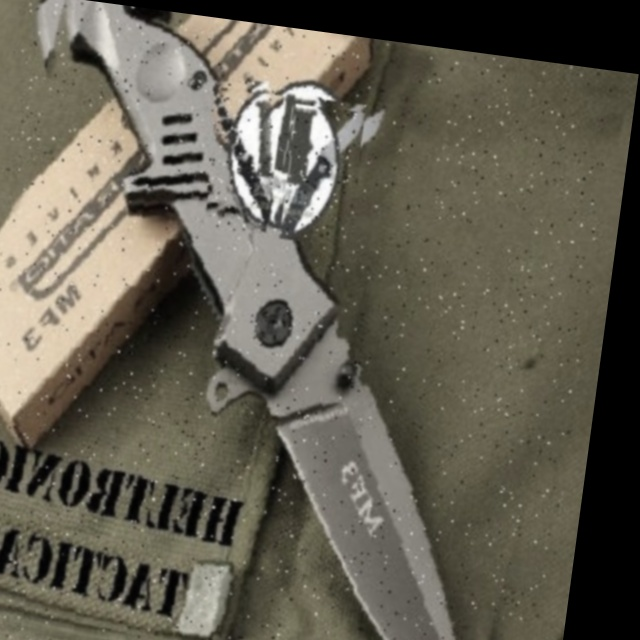Sharp-Object: (0, 0, 619, 640), (278, 104, 365, 248), (203, 88, 284, 235)
